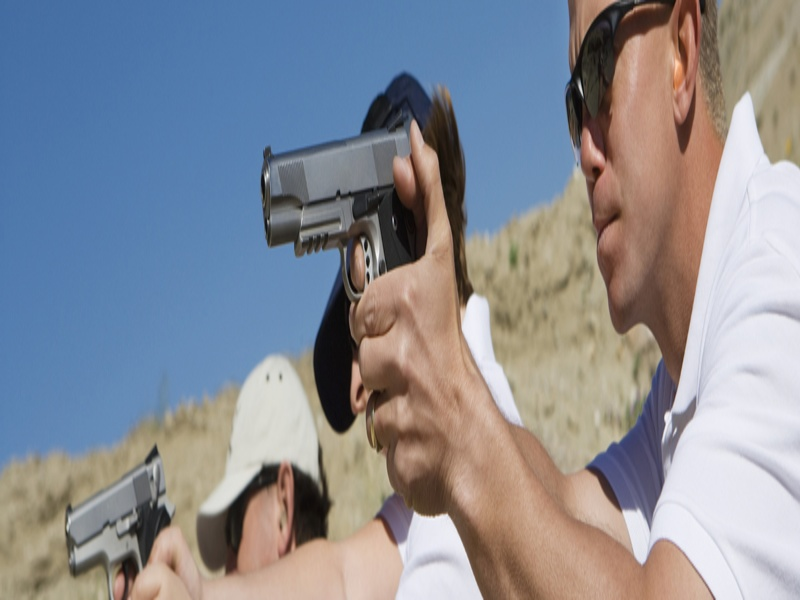gun: (248, 126, 463, 426), (46, 442, 189, 600)
